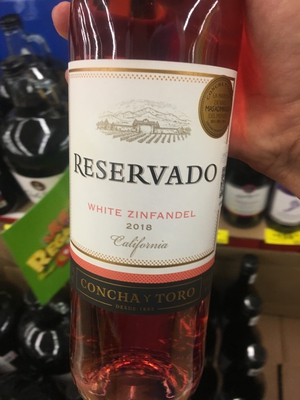reservado white zinfandel: (59, 3, 244, 400)
